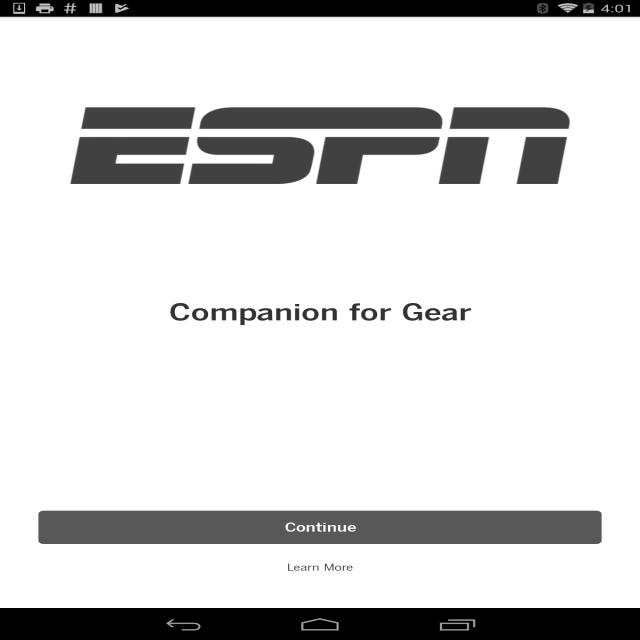Button: (31, 505, 608, 548)
ImageView: (60, 97, 571, 190)
TextView: (161, 295, 488, 334)
